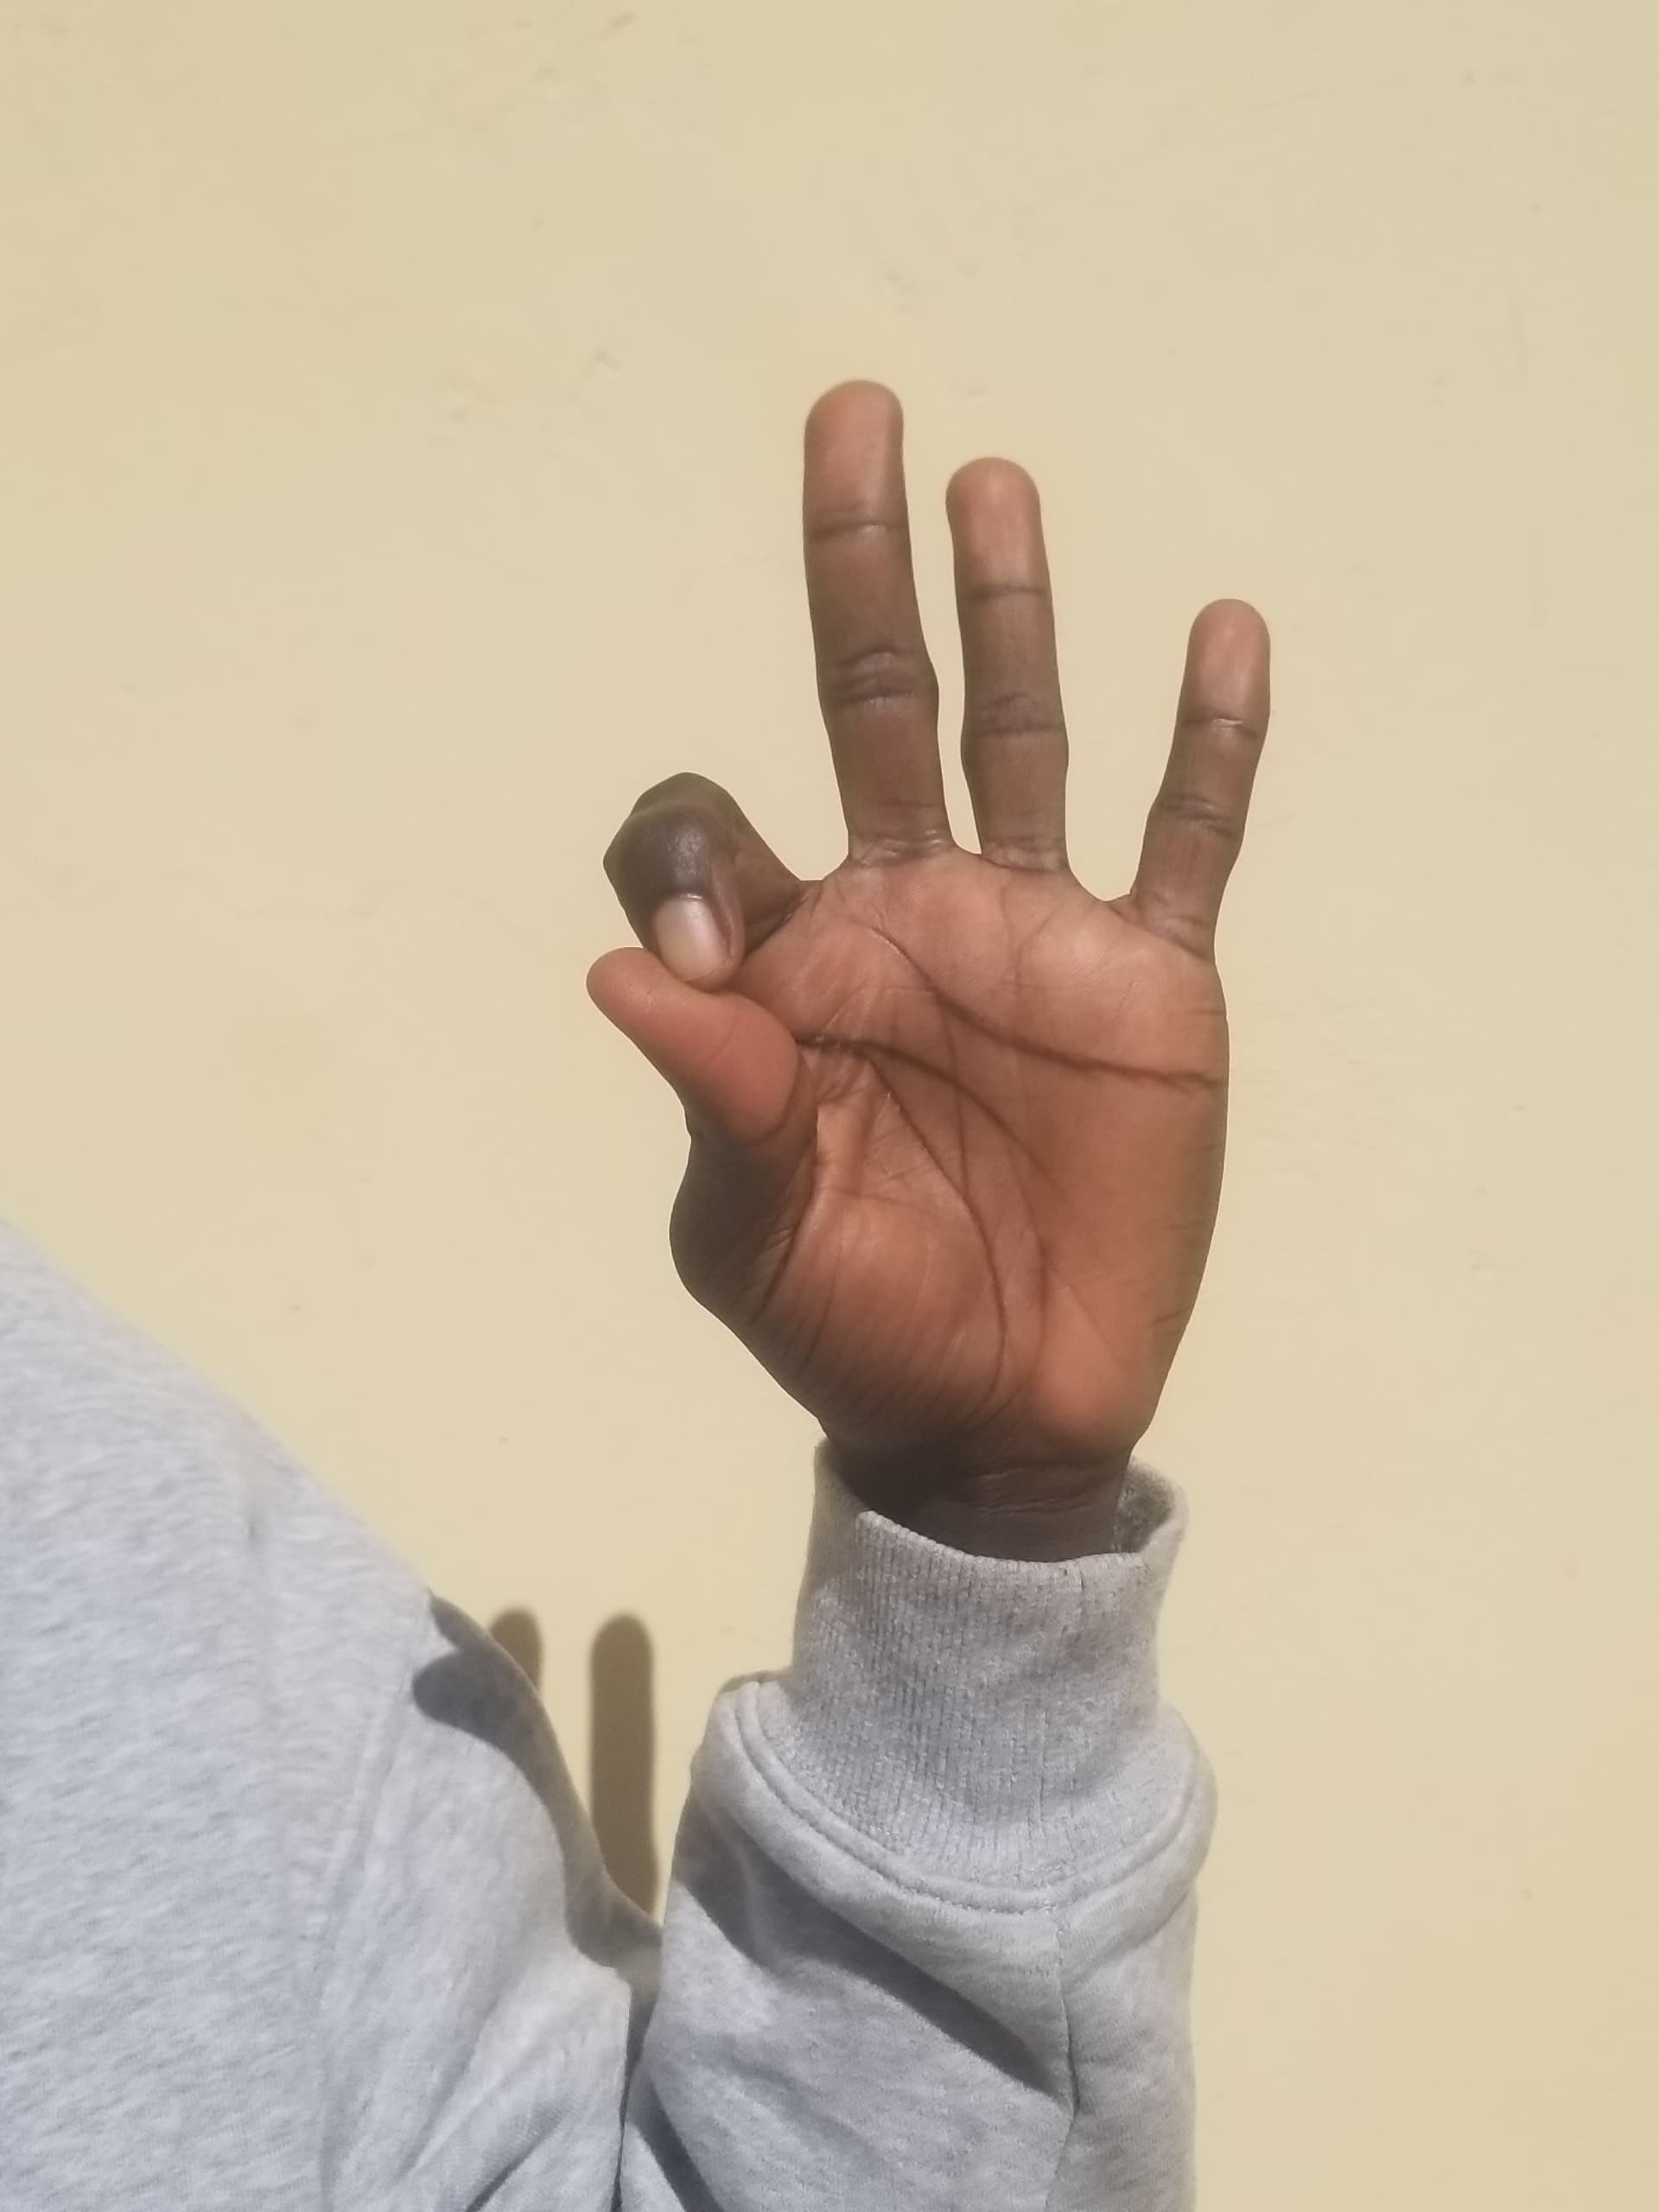okay: (444, 324, 1358, 1559)
